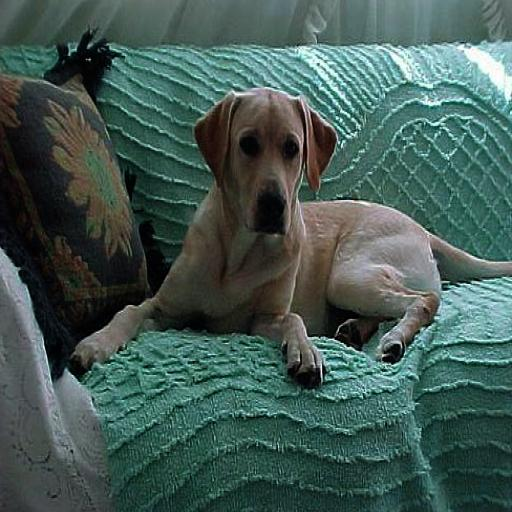dog_face: (205, 76, 326, 232)
